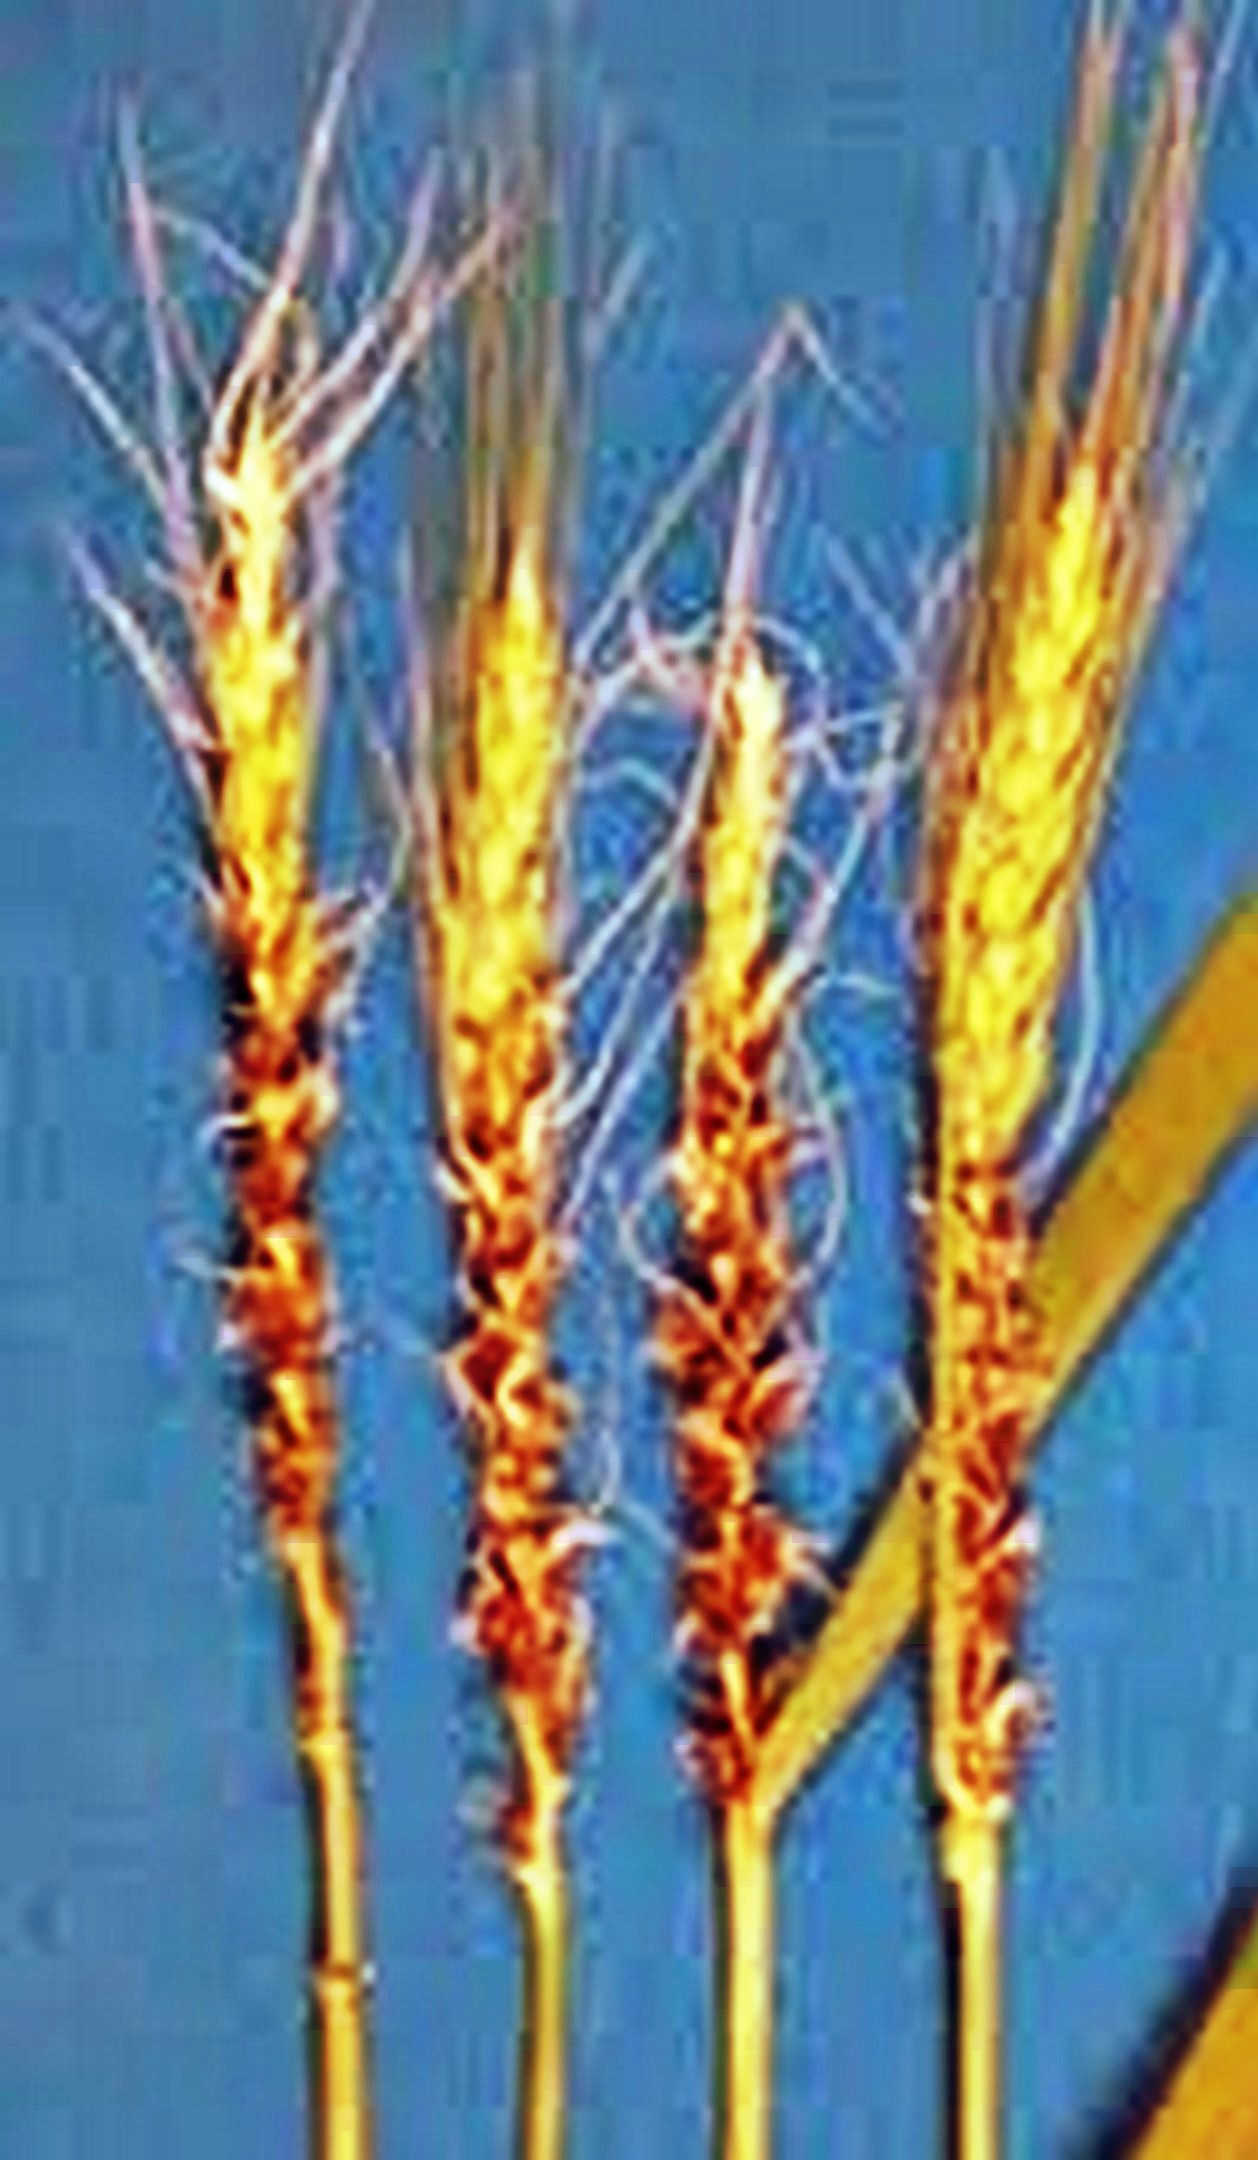Wheat Loose Smut: (123, 924, 1144, 1825)
